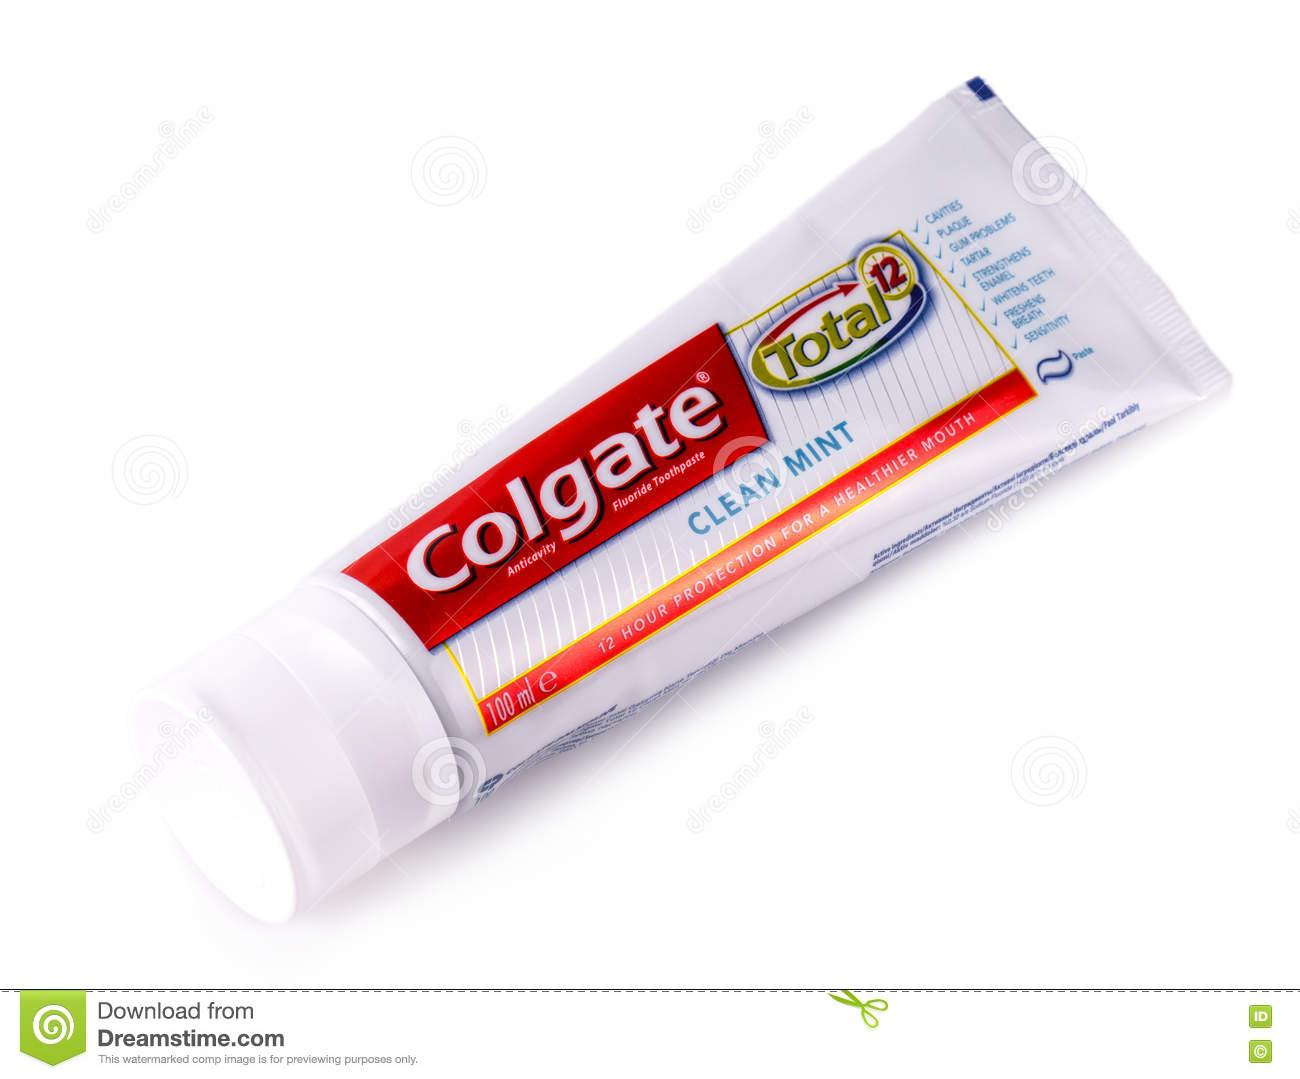toothpaste: (113, 69, 1249, 915)
